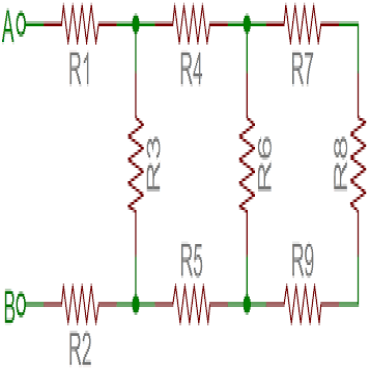Resistor: (168, 242, 212, 325), (170, 2, 212, 87), (332, 114, 367, 216), (280, 242, 322, 327), (238, 116, 274, 215), (281, 3, 323, 86), (127, 116, 162, 214), (59, 282, 99, 367), (58, 2, 99, 84)
